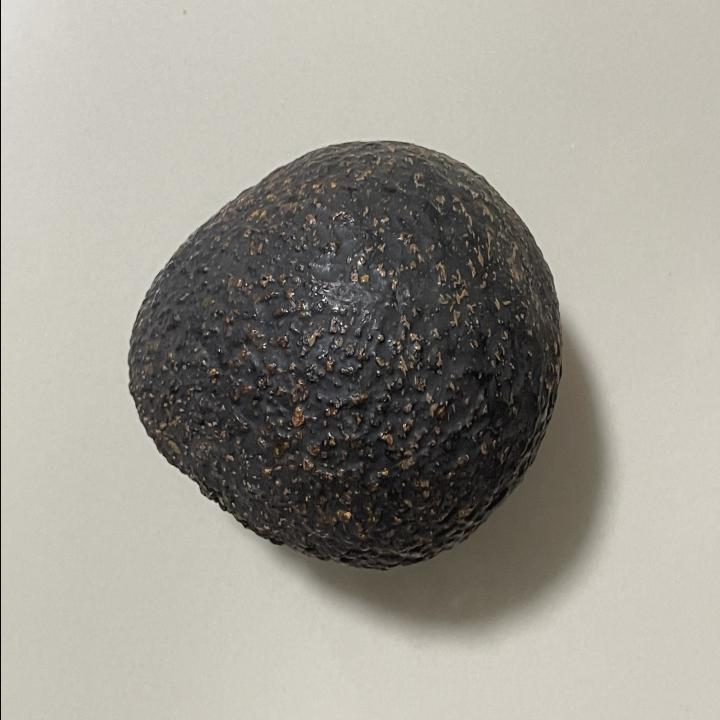Level2: (122, 134, 566, 580)
